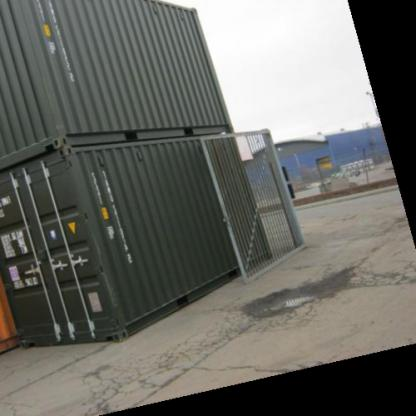Damage: (89, 226, 118, 310), (35, 66, 69, 136)
